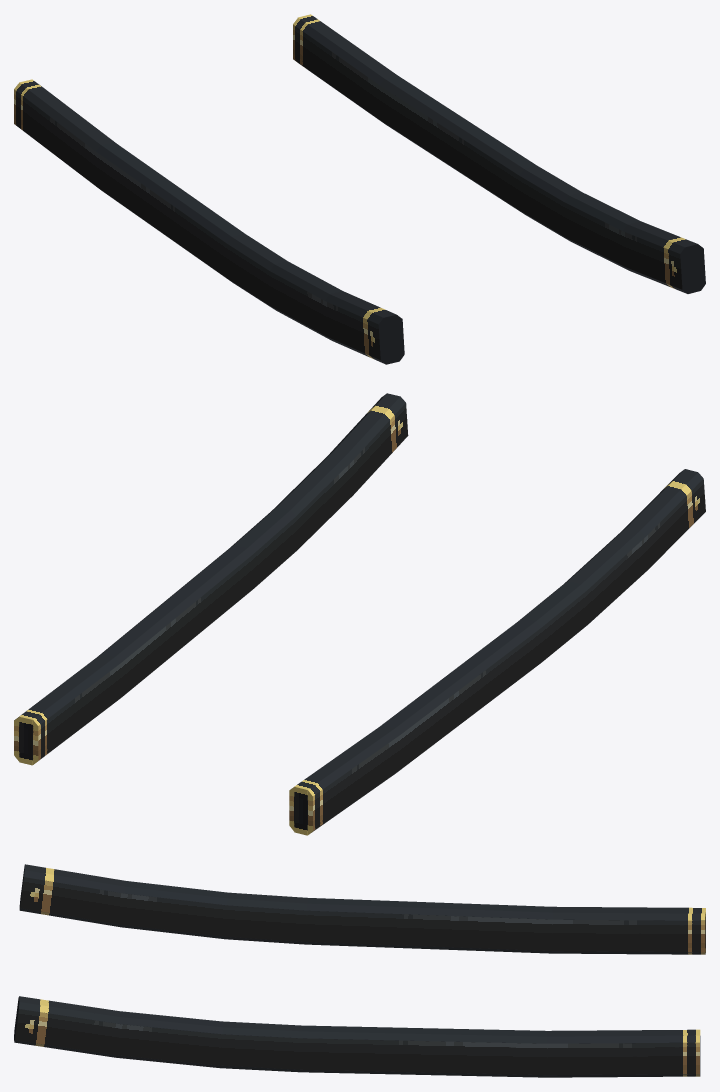
The model's file is a_yamato_sheath.glb.
3 renders of one model, top to bottom at view 1: azimuth 30°, elevation 25°; view 2: azimuth 150°, elevation 25°; view 3: azimuth 270°, elevation 25°, orthographic. The views are drawn at different scales.
Visible parts, largest first — view 1: main__Tool_R, off__Tool_L; view 2: off__Tool_L, main__Tool_R; view 3: main__Tool_R, off__Tool_L.
Boxes of the visible parts, x1,y1,x2,y2 form: main__Tool_R: [293, 14, 705, 293]; off__Tool_L: [14, 79, 404, 364]; off__Tool_L: [289, 469, 705, 835]; main__Tool_R: [14, 393, 408, 765]; main__Tool_R: [14, 996, 700, 1077]; off__Tool_L: [19, 864, 705, 954].
Size of the model in its own units: 0.9256 by 0.2413 by 1.9.
1 material, 1 textured.
